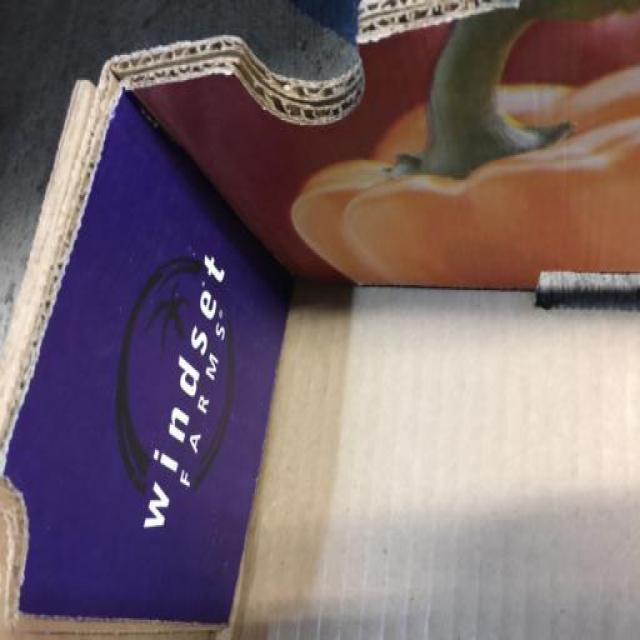cardboard: (3, 1, 640, 640)
